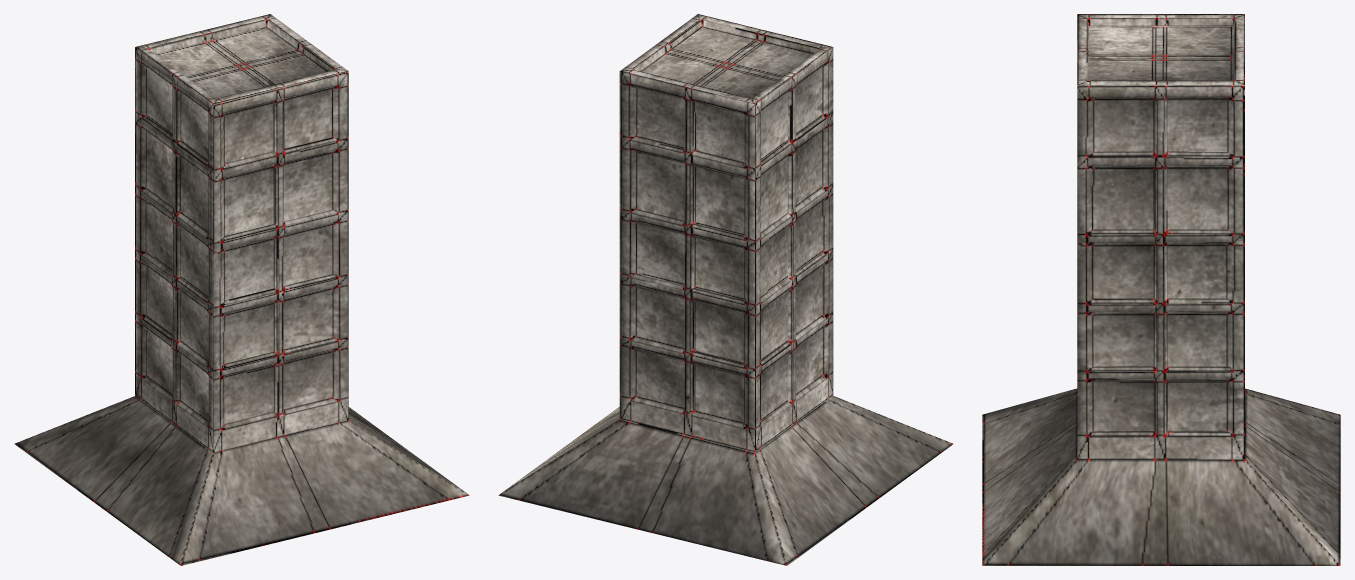
The model's file is building_tower.fbx.
The picture shows the model from 3 angles, left to right: view 1: azimuth 30°, elevation 25°; view 2: azimuth 150°, elevation 25°; view 3: azimuth 270°, elevation 25°; orthographic projection. The views are drawn at different scales.
Parts seen in each view (by area): view 1: Cube; view 2: Cube; view 3: Cube.
Boxes of the visible parts, box(x1,y1,x2,y2) form: Cube: box(14, 14, 469, 565); Cube: box(498, 14, 953, 565); Cube: box(982, 14, 1340, 565).
Bounding box in the file's own units: 4.27 × 5.8 × 4.27.
1 material, 1 textured.
